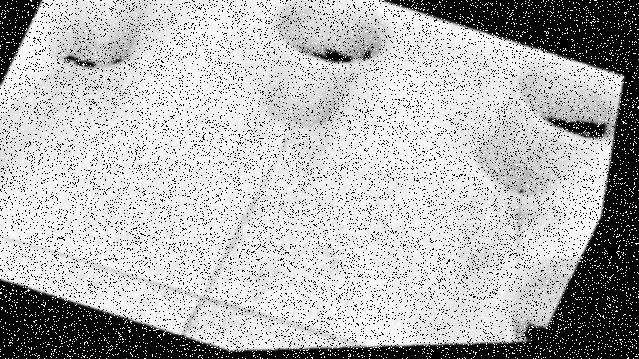pot: (472, 58, 621, 196), (257, 0, 393, 128), (40, 0, 154, 68)
